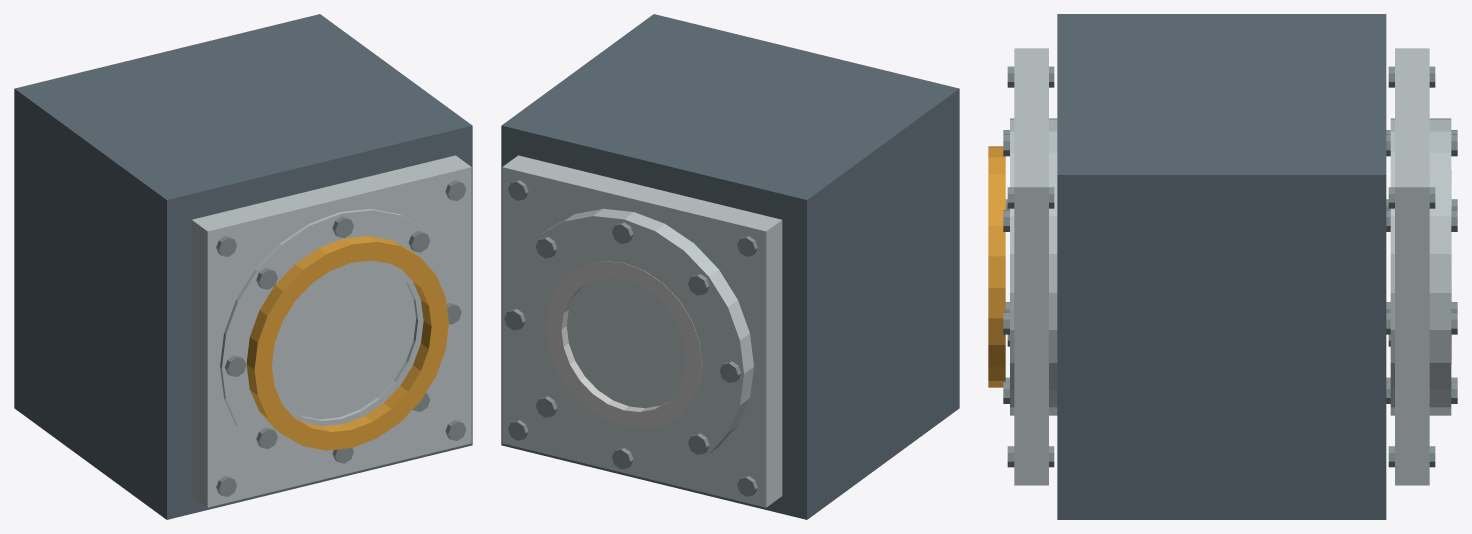
Rendered from body.obj.
The picture shows the model from 3 angles, left to right: view 1: azimuth 30°, elevation 25°; view 2: azimuth 150°, elevation 25°; view 3: azimuth 270°, elevation 25°; orthographic projection. The views are drawn at different scales.
Bounding box in the file's own units: 0.88 × 0.88 × 1.08.
